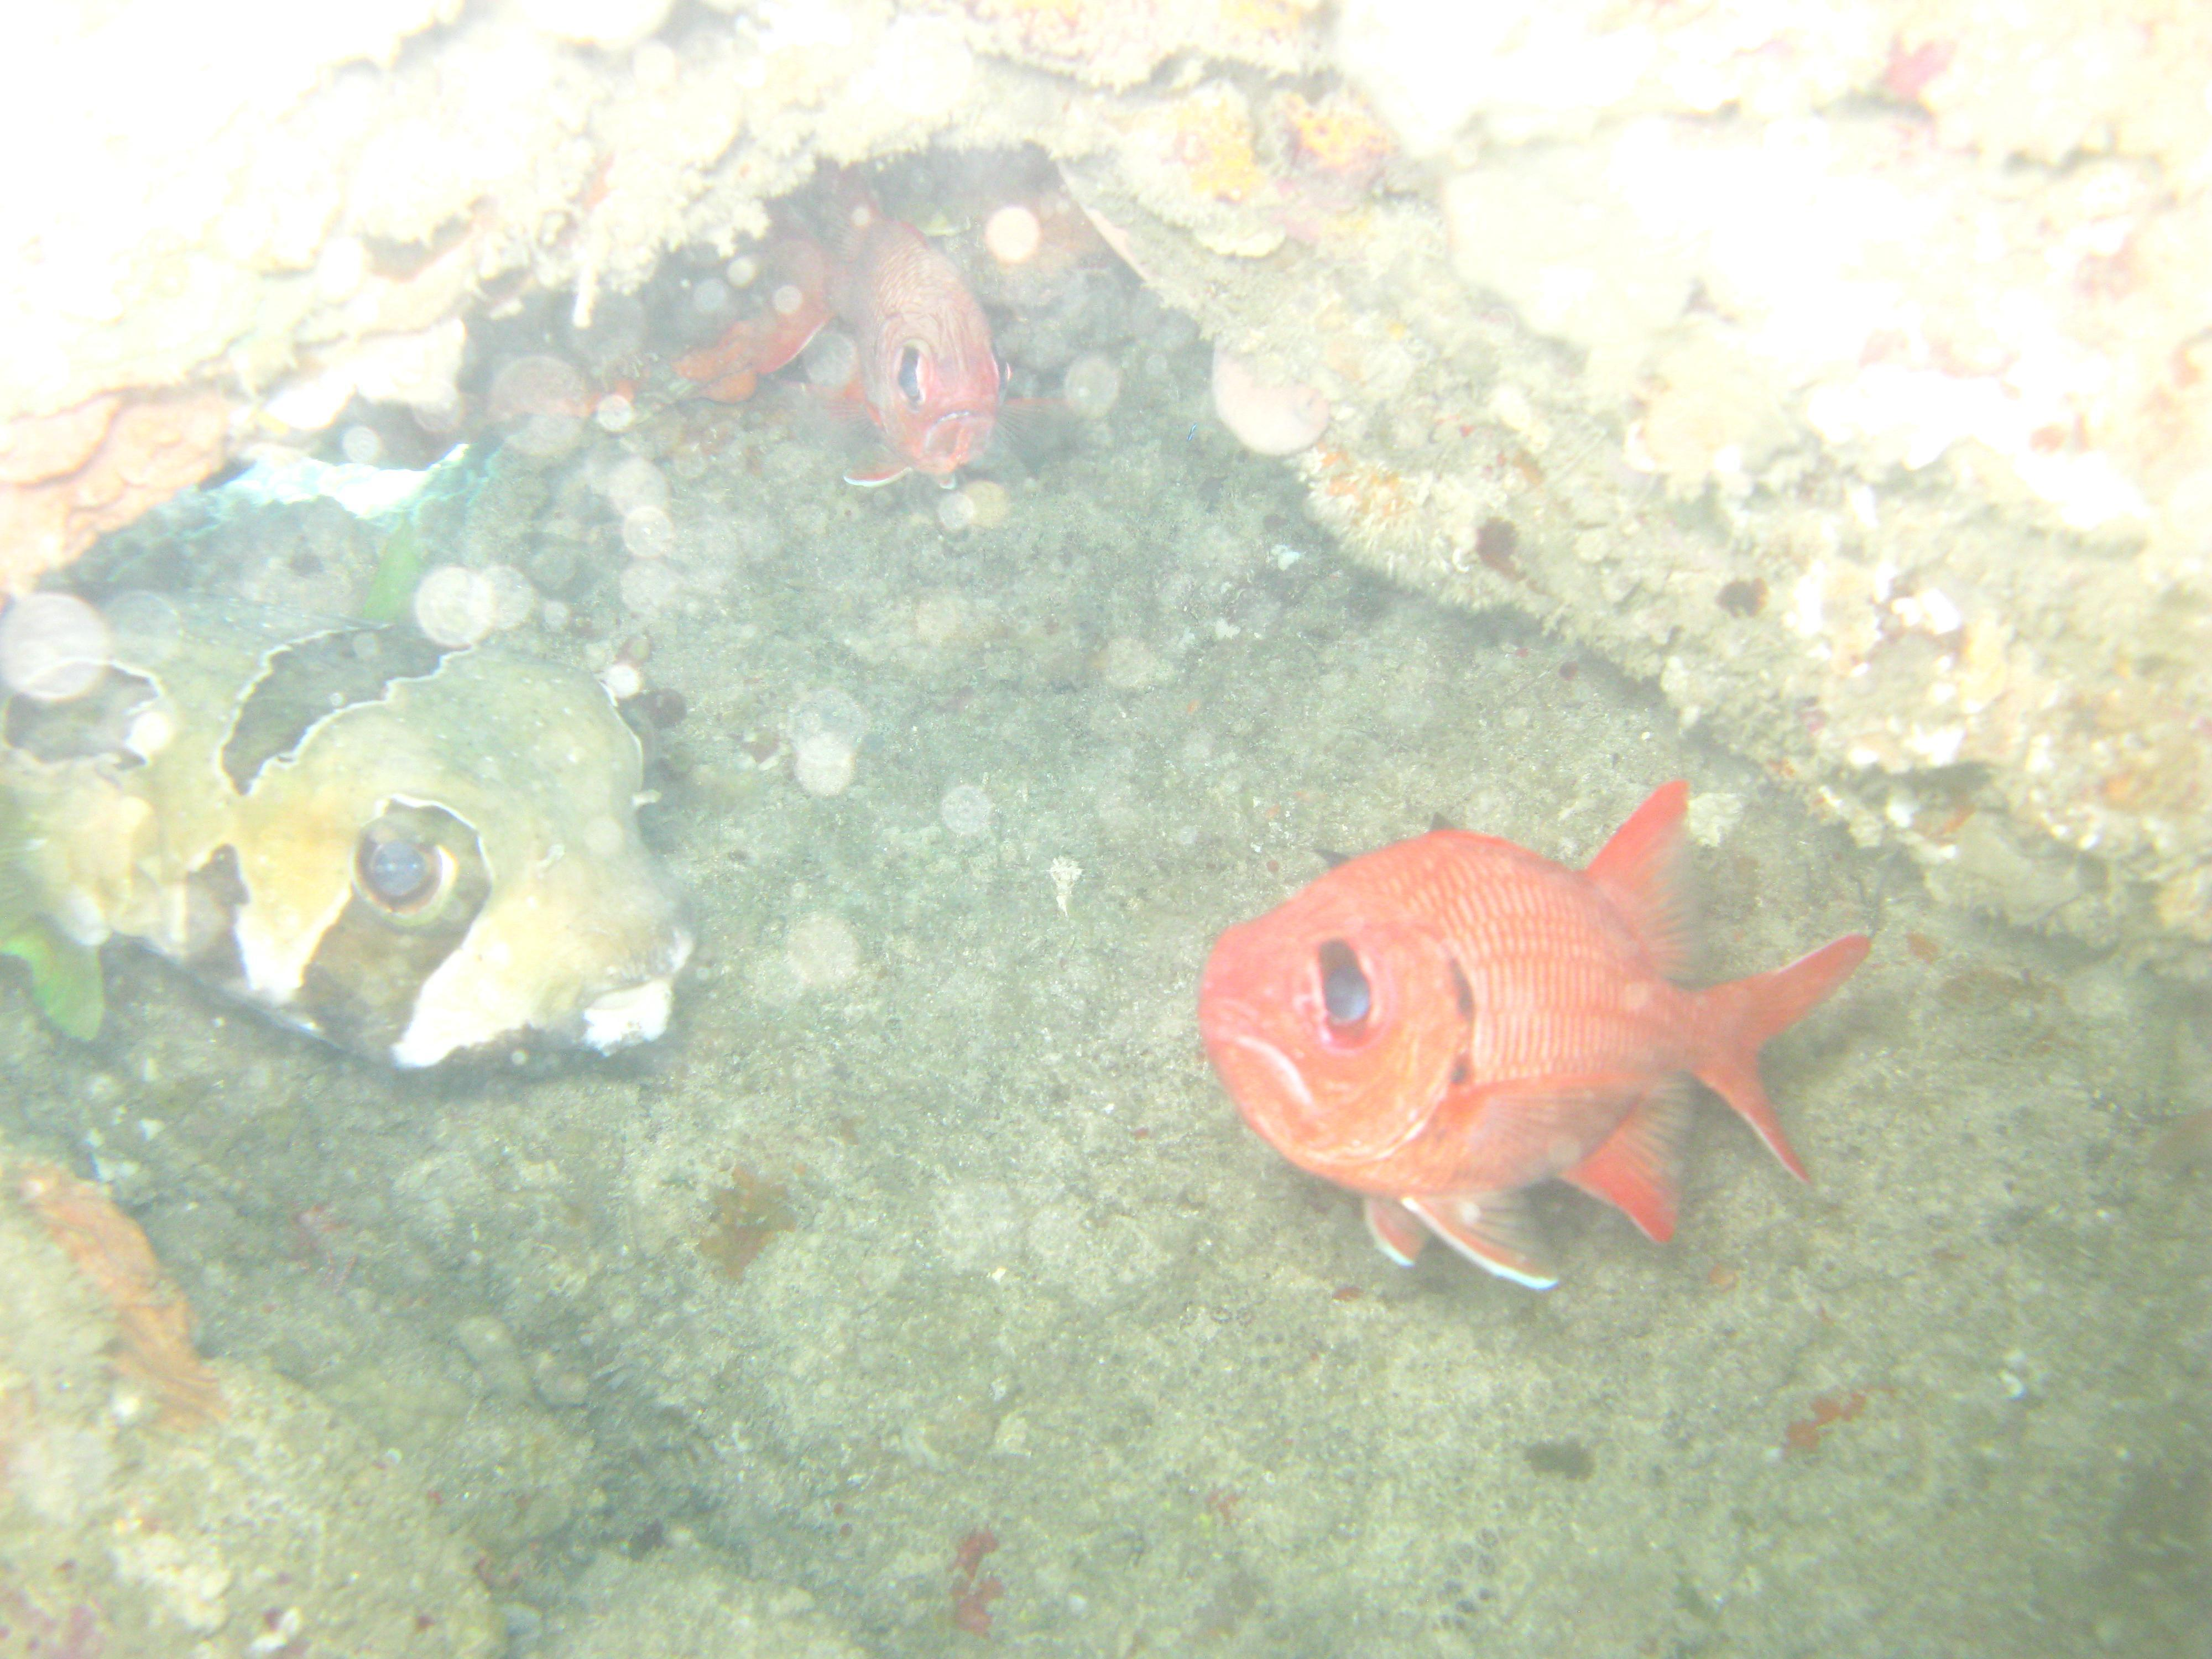Fish: (1179, 777, 1869, 1297), (709, 188, 1029, 509)
